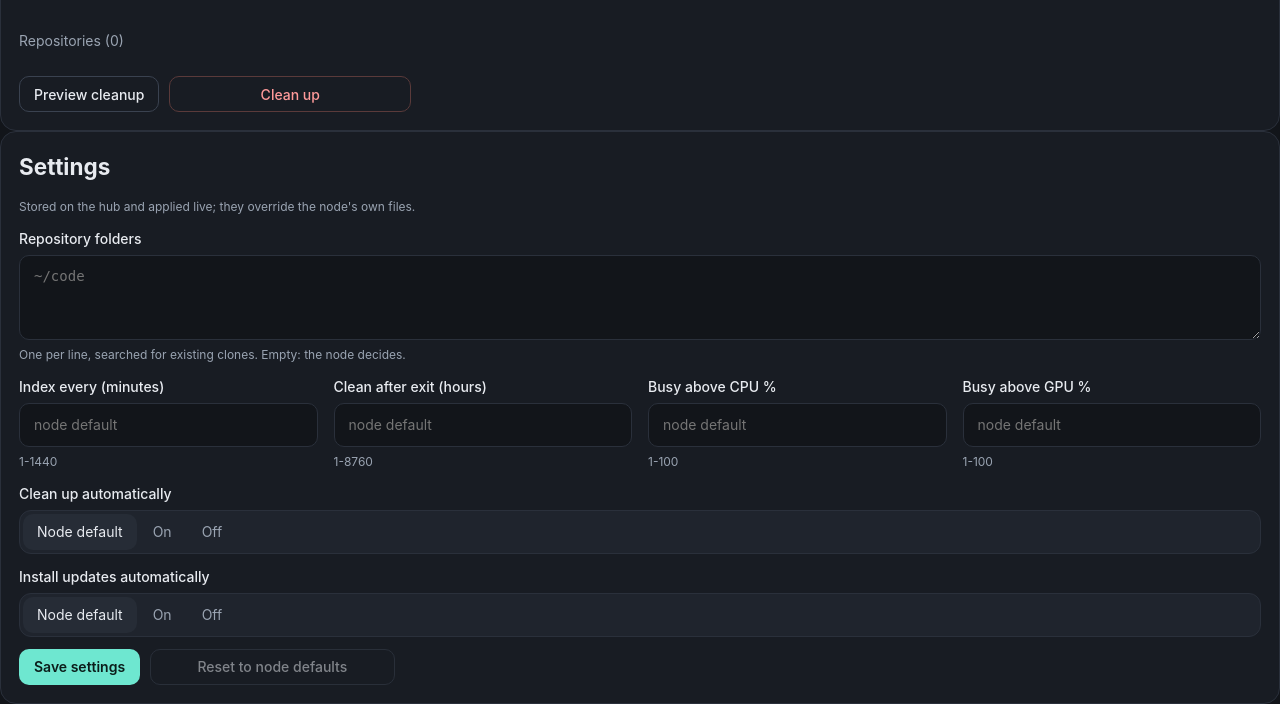
Test: NodeDetail › a save with no answer re-enables the form after the timeout
(page scrolled)
Type "20" into the field labelled "Index every (minutes)". click: (168, 425)
box: [19,403,318,447]
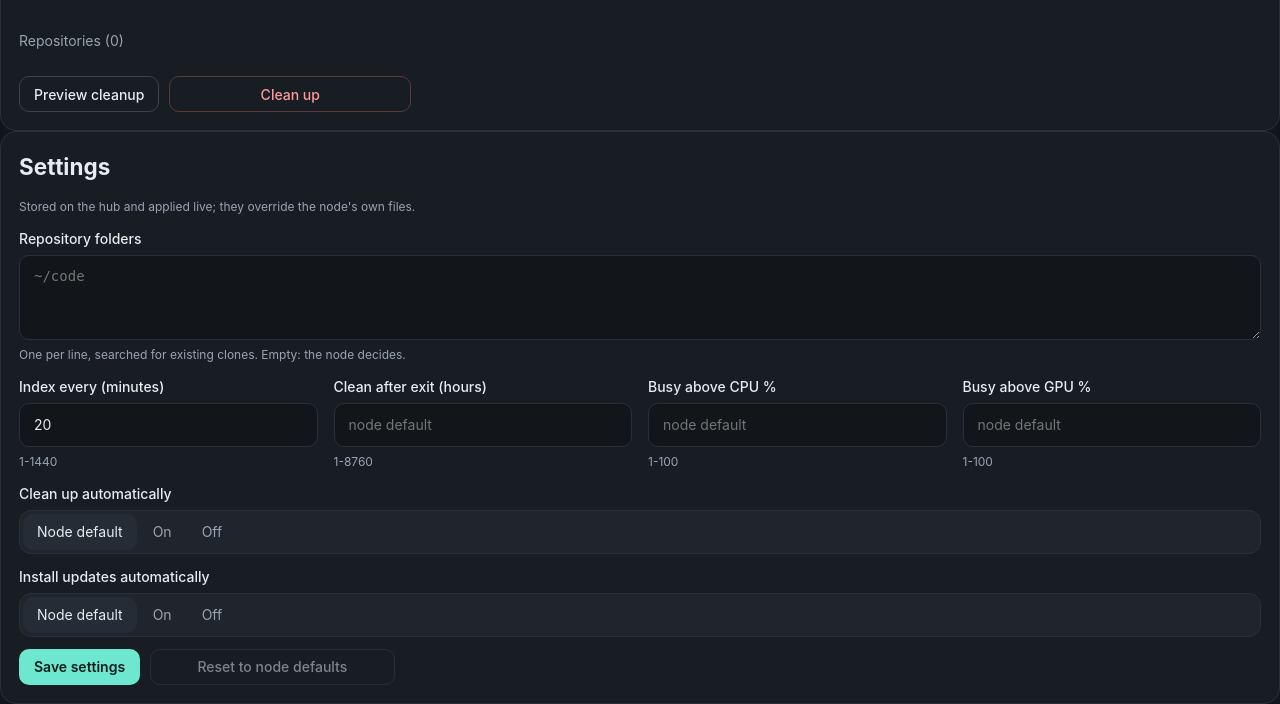
Click the button "Save settings". click: (80, 667)
box: [19,649,140,685]
Wait 10000 ms
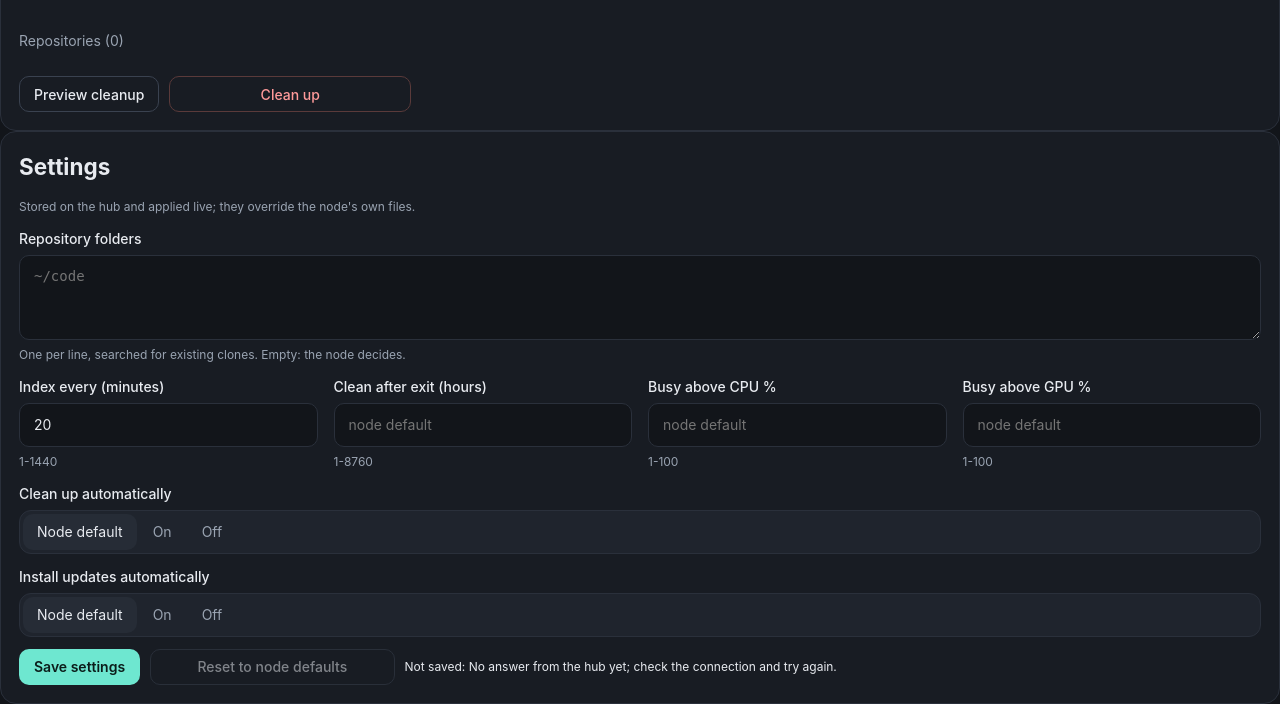
Expected: the message shows "Not saved: No answer from the hub yet", [404,659,837,674]
